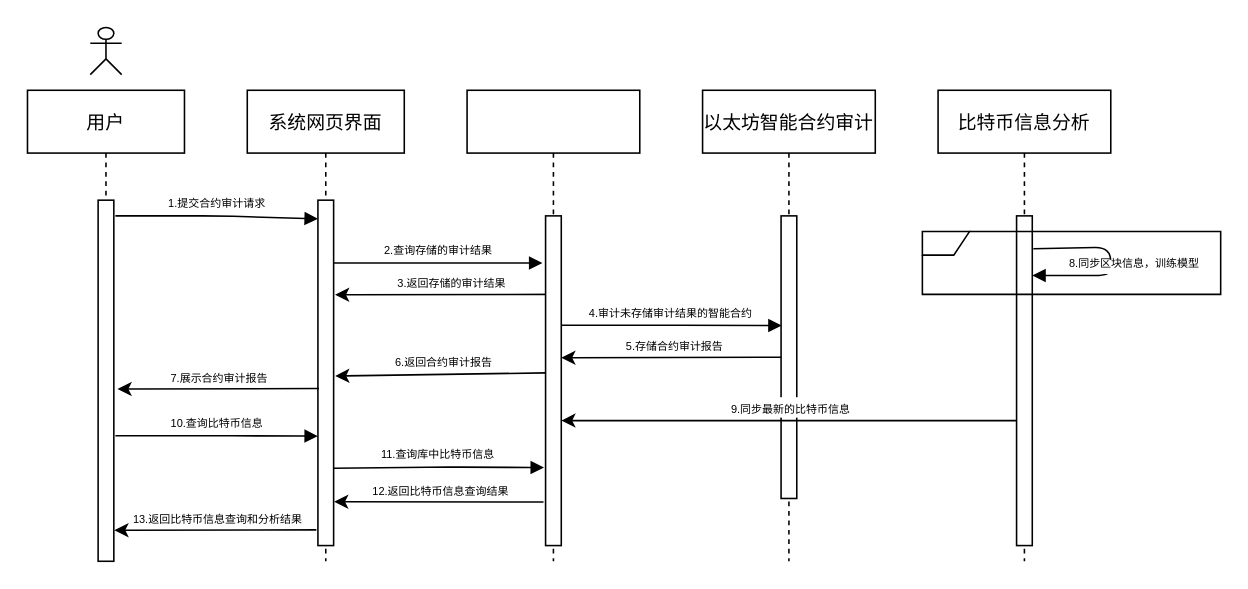
Image size: 1248x589. Some labels were removed from this diagram. Each missing label, with the box of its shape:
循环: (921, 230, 1221, 294)
数据库: (466, 89, 640, 561)
